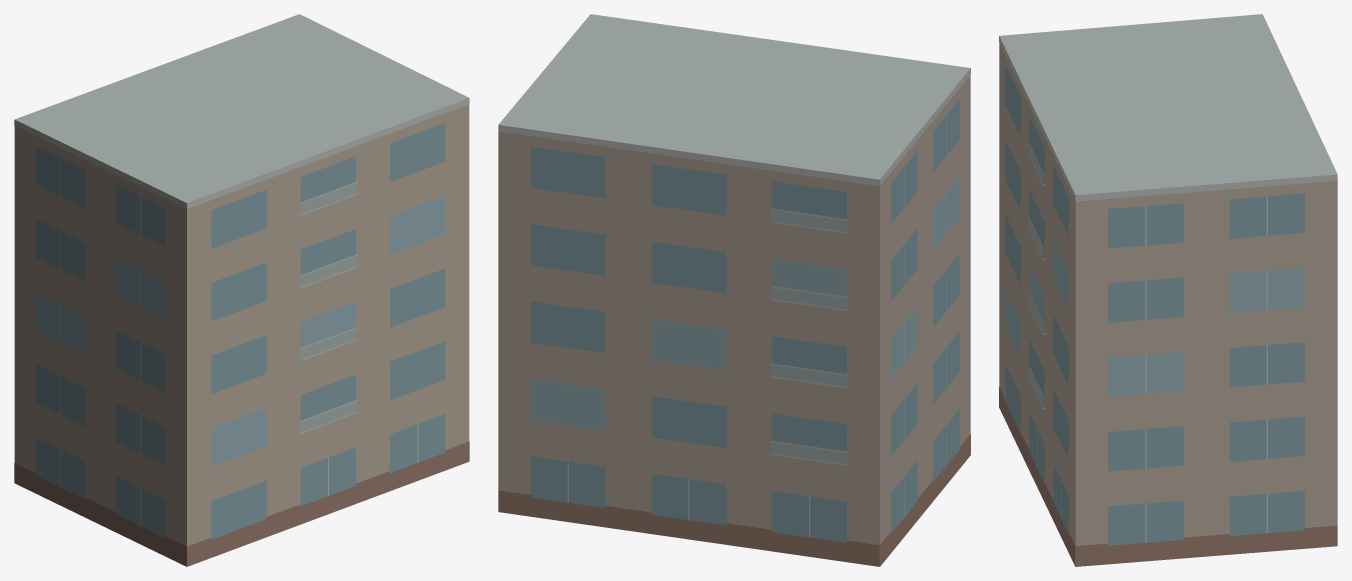
Rendered from survey-upis-32638793.glb.
The picture shows the model from 3 angles, left to right: view 1: azimuth 30°, elevation 25°; view 2: azimuth 150°, elevation 25°; view 3: azimuth 270°, elevation 25°; orthographic projection. The views are drawn at different scales.
Visible parts, largest first — view 1: survey-upis-32638793.tmp; view 2: survey-upis-32638793.tmp; view 3: survey-upis-32638793.tmp.
Boxes of the visible parts, left/top/right/bottom form: survey-upis-32638793.tmp: left=14, top=14, right=469, bottom=566; survey-upis-32638793.tmp: left=498, top=14, right=970, bottom=566; survey-upis-32638793.tmp: left=999, top=14, right=1337, bottom=566.
Size of the model in its own units: 15.07 by 14.4 by 11.9.
